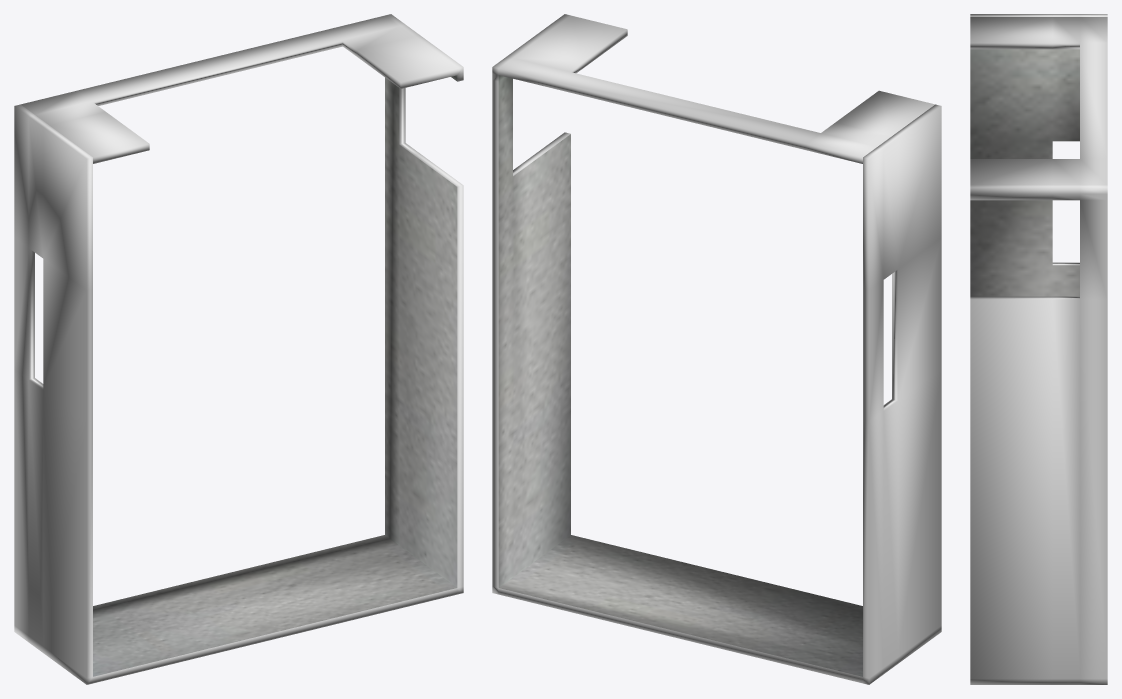
Rendered from wall_garage_v2.fbx.
3 views of the same model, side by side, from view 1: azimuth 30°, elevation 25°; view 2: azimuth 150°, elevation 25°; view 3: azimuth 270°, elevation 25° (orthographic). The views are drawn at different scales.
Visible parts, largest first — view 1: Cube.001; view 2: Cube.001; view 3: Cube.001.
Part boxes in pixels (left/top/right/bottom): Cube.001: left=14, top=14, right=463, bottom=684; Cube.001: left=492, top=14, right=941, bottom=684; Cube.001: left=970, top=14, right=1107, bottom=684.
Bounding box in the file's own units: 0.03 × 0.04 × 0.01.
